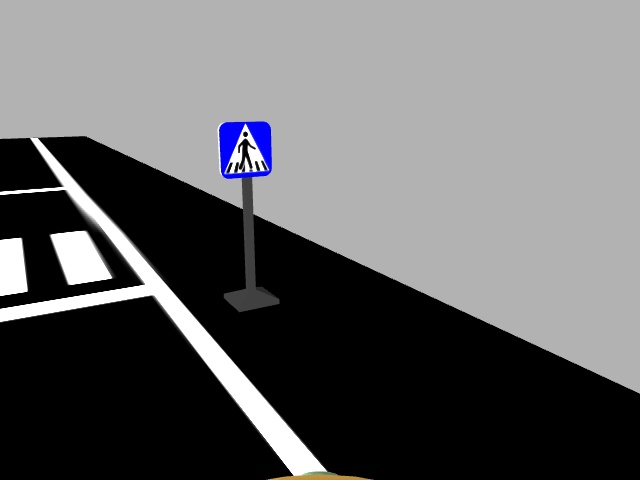Crosswalk: (215, 120, 274, 177)
